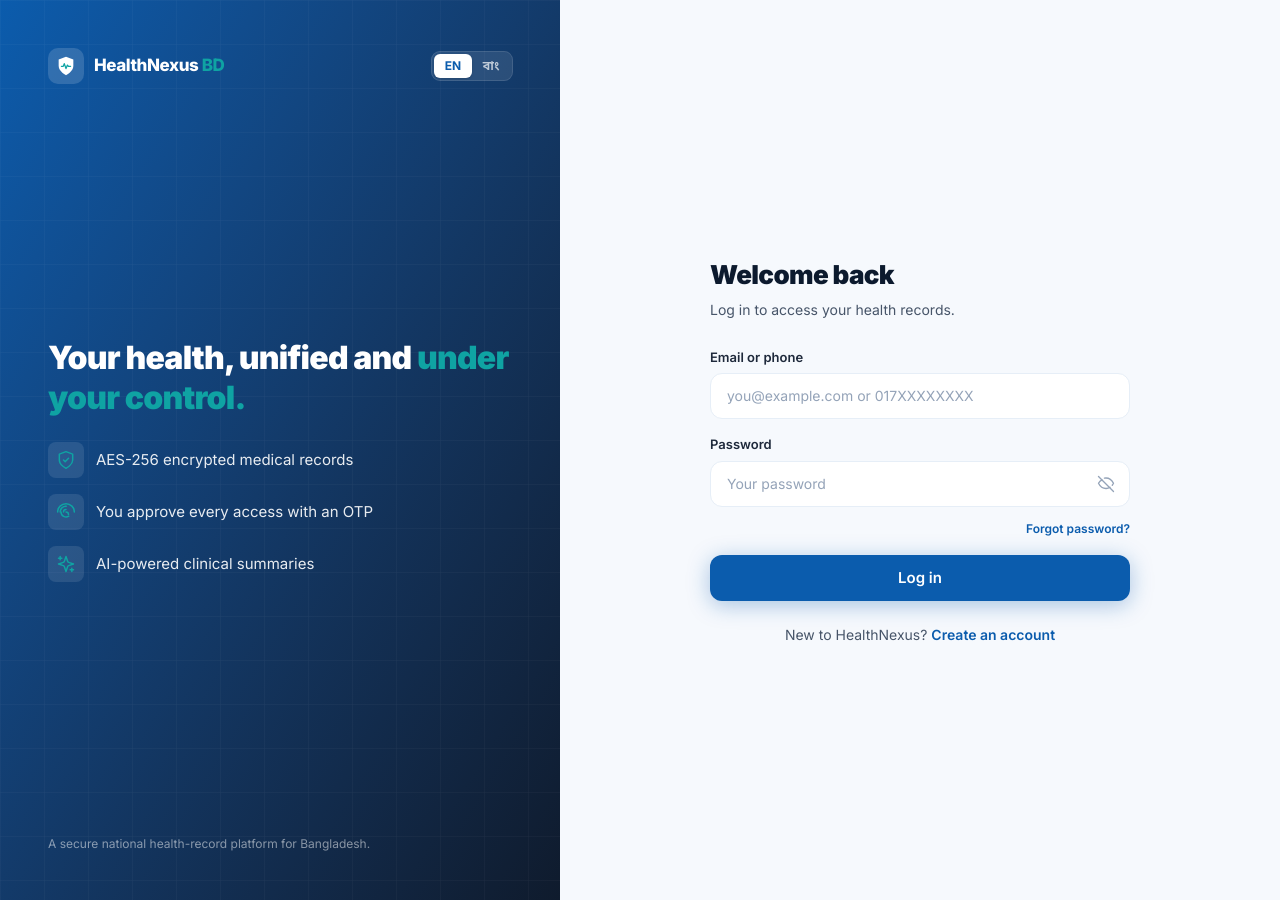
it: switching language live › re-renders an open page, including visible errors
The image size is (1280, 900).
Click the button "Log in". click: (920, 578)
box: [710,555,1130,601]
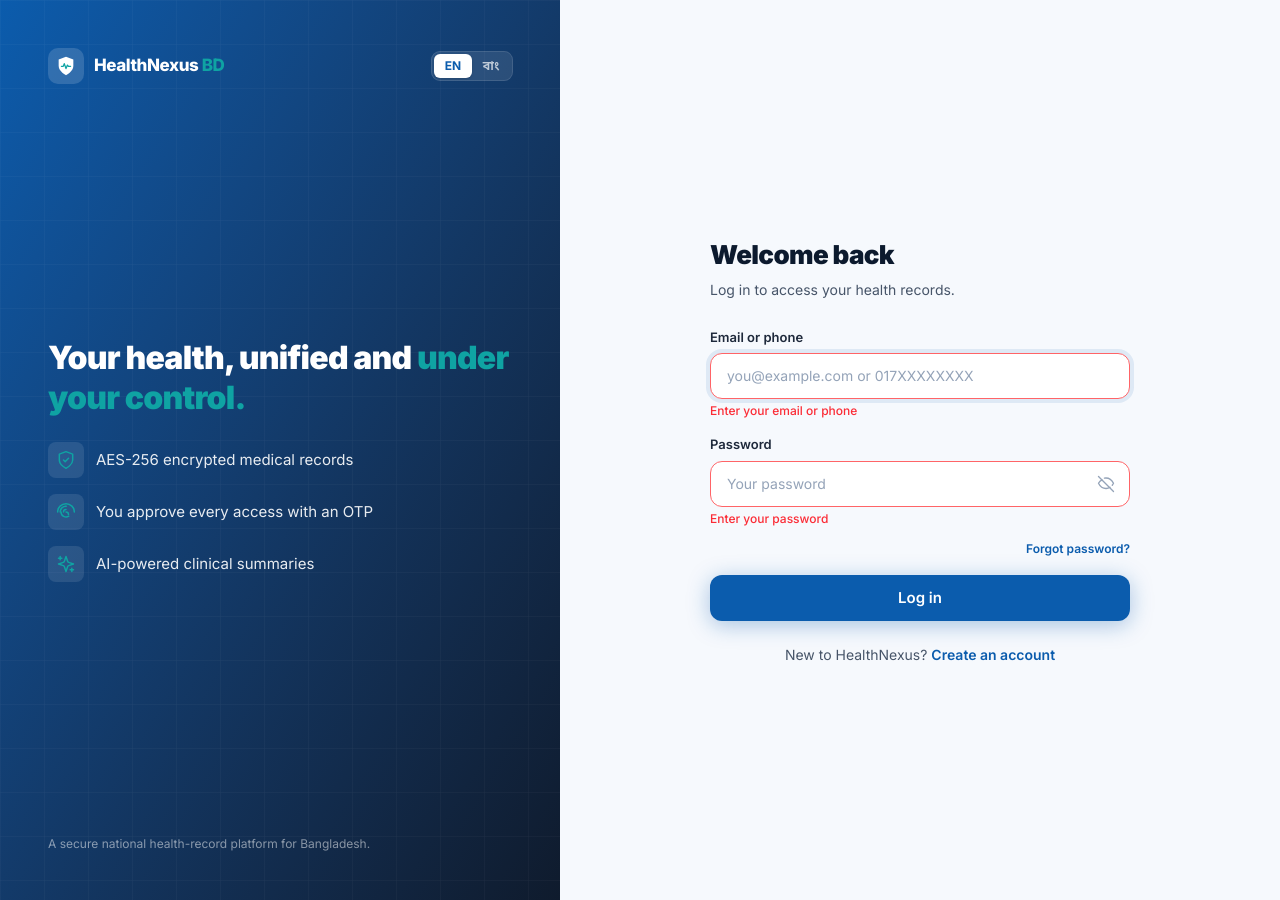
Now the text "Enter your email or phone" is shown, box [710,403,857,418]
Click the button named "বাংলা". click: (491, 66)
box: [472,54,510,78]
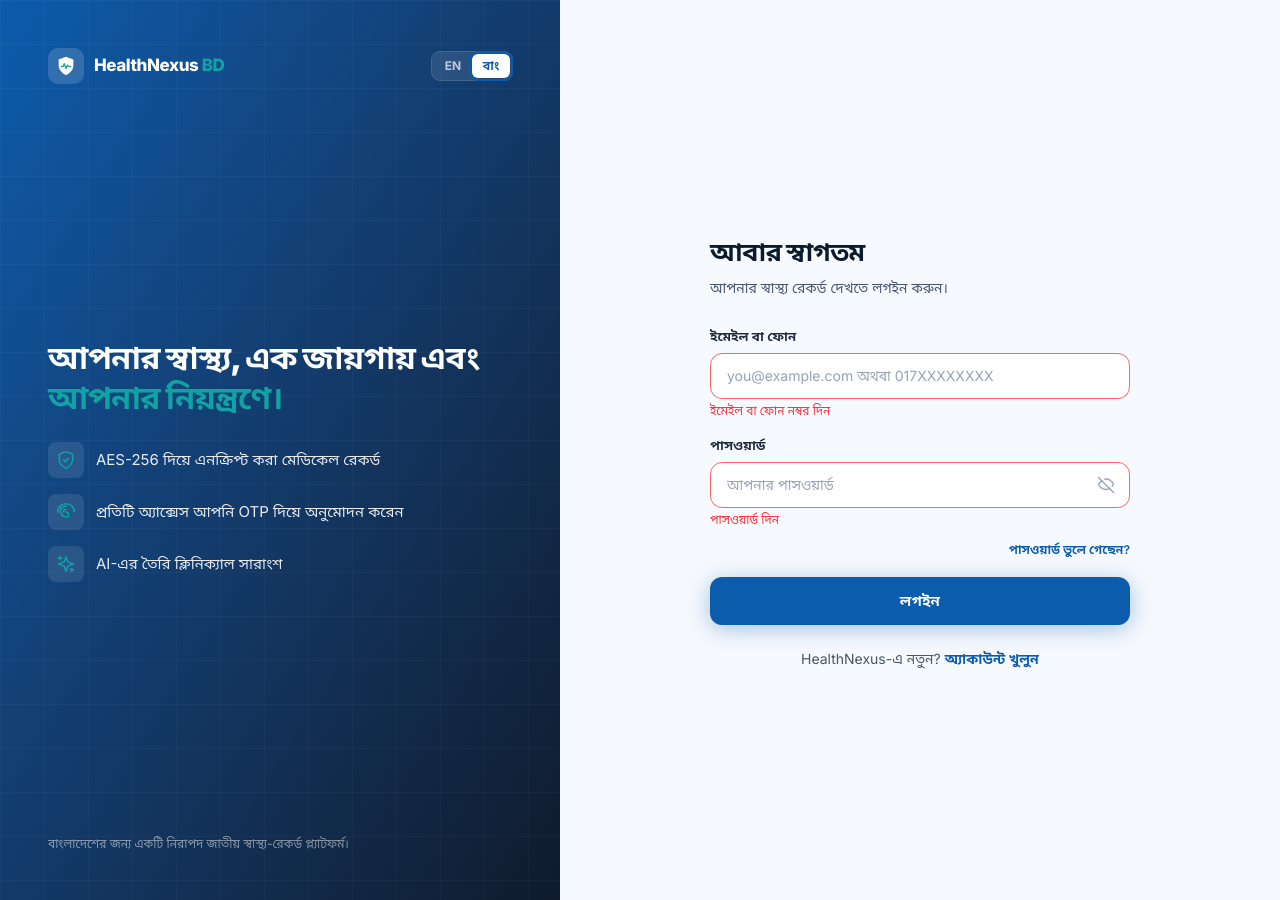
Now the text "ইমেইল বা ফোন নম্বর দিন" is shown, box [710,403,830,418]
Now the heading "আবার স্বাগতম" is shown, box [710,236,865,267]
